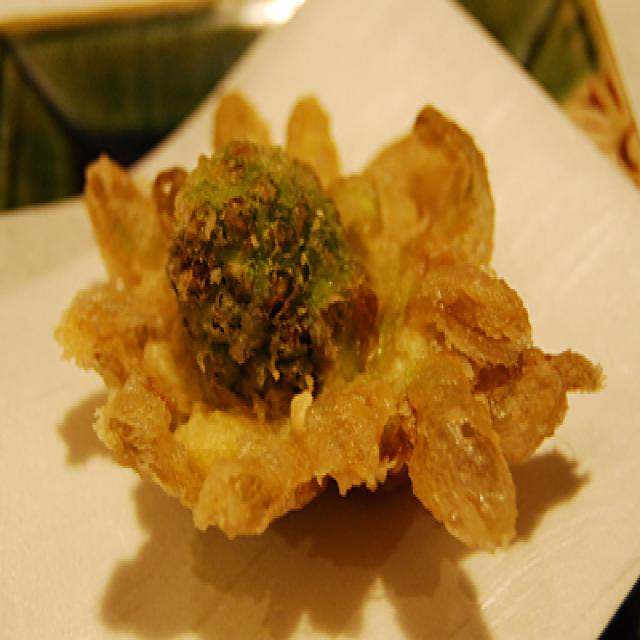蔬菜料理: (54, 71, 598, 564)
